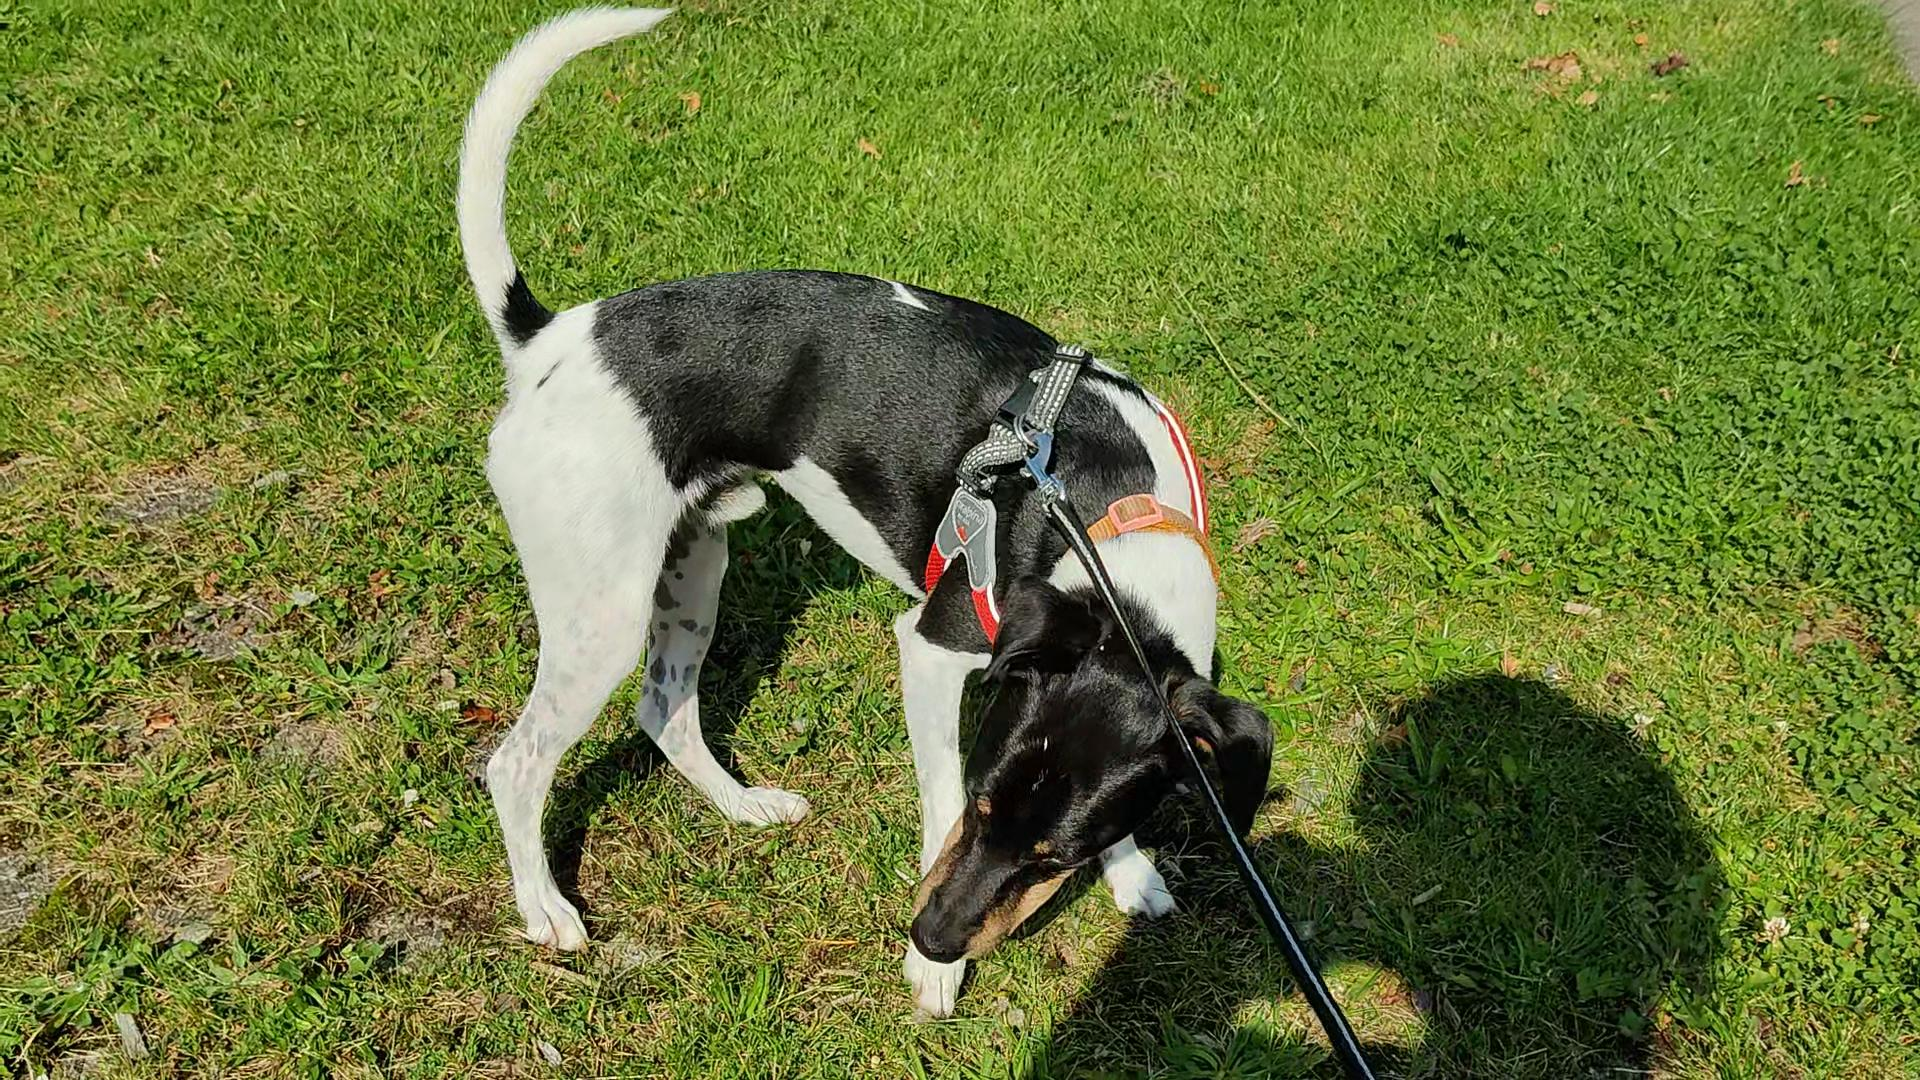Dog: (444, 9, 1352, 1026)
